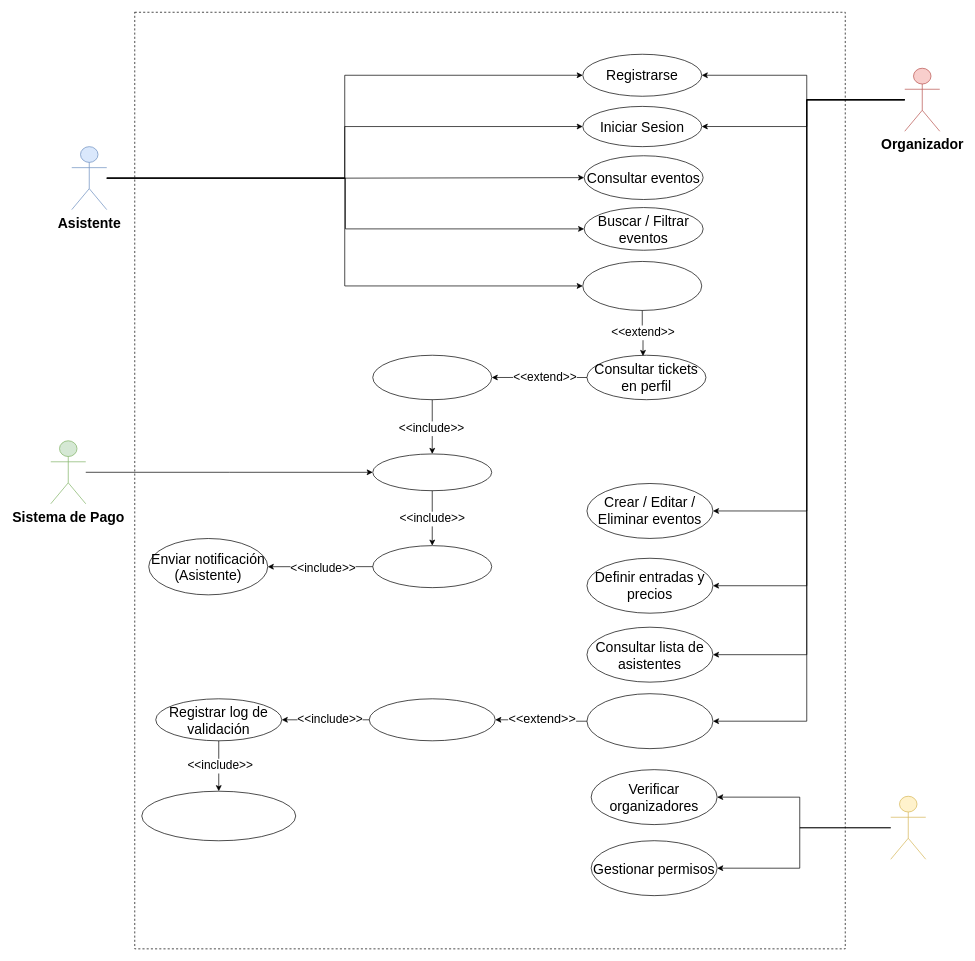
This 975x961 diagram has some shape labels left out. The shapes that lost their labels are listed below. From the top down, each one's centre as x and y in pixels, then its label:
At [642,285]: "Ver detalles de evento".
At [432,377]: "Comprar entradas".
At [432,472]: "Procesar pago".
At [432,566]: "Generar ticket digital".
At [432,719]: "Escanear QR".
At [649,721]: "Validar tickets".
At [218,816]: "Marcar ticket como usado".
At [908,827]: "Administrador".
